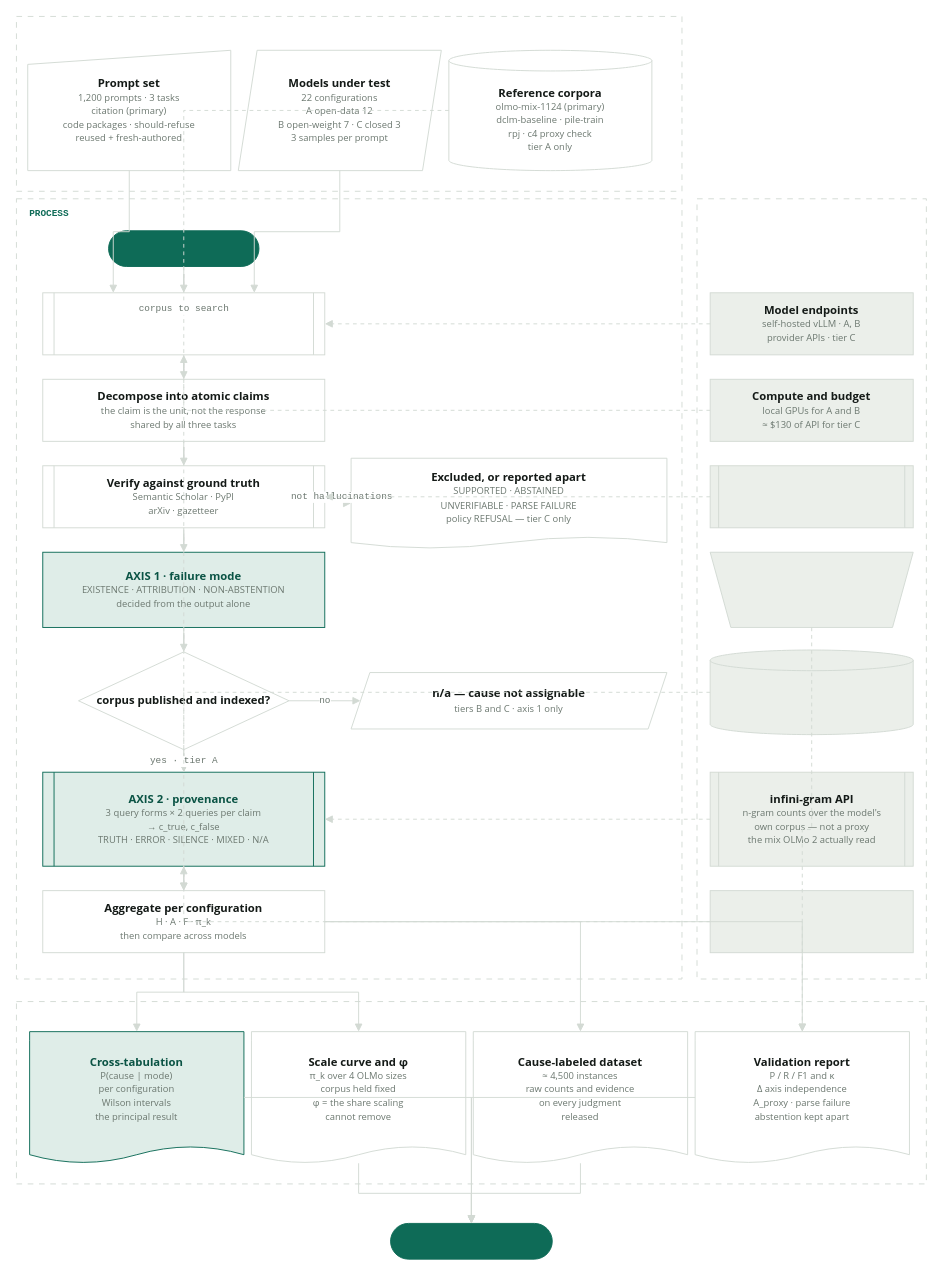
This 943x1276 diagram has some shape labels left out. The shapes that lost their labels are listed below. From the top down, each one's box as (x1, y1, x2, y2) in pixels, then its label:
(16, 16, 682, 191): INPUT
(108, 230, 259, 266): START
(42, 292, 325, 355): Generate 22 configs × 1,200 × 3 samples ≈ 79,000 responses
(709, 465, 913, 528): Authoritative indexes Semantic Scholar · PyPI arXiv · gazetteer
(696, 198, 926, 979): ENVIRONMENT
(709, 551, 913, 627): Human annotators 2 per item · 100 per task consensus is ground truth
(709, 649, 913, 735): Evidence store raw counts + matched docs kept for every judgment
(709, 890, 913, 953): Cache and rate limit queries keyed on (claim, corpus), not model
(16, 1001, 926, 1184): OUTPUT
(390, 1222, 552, 1259): END
